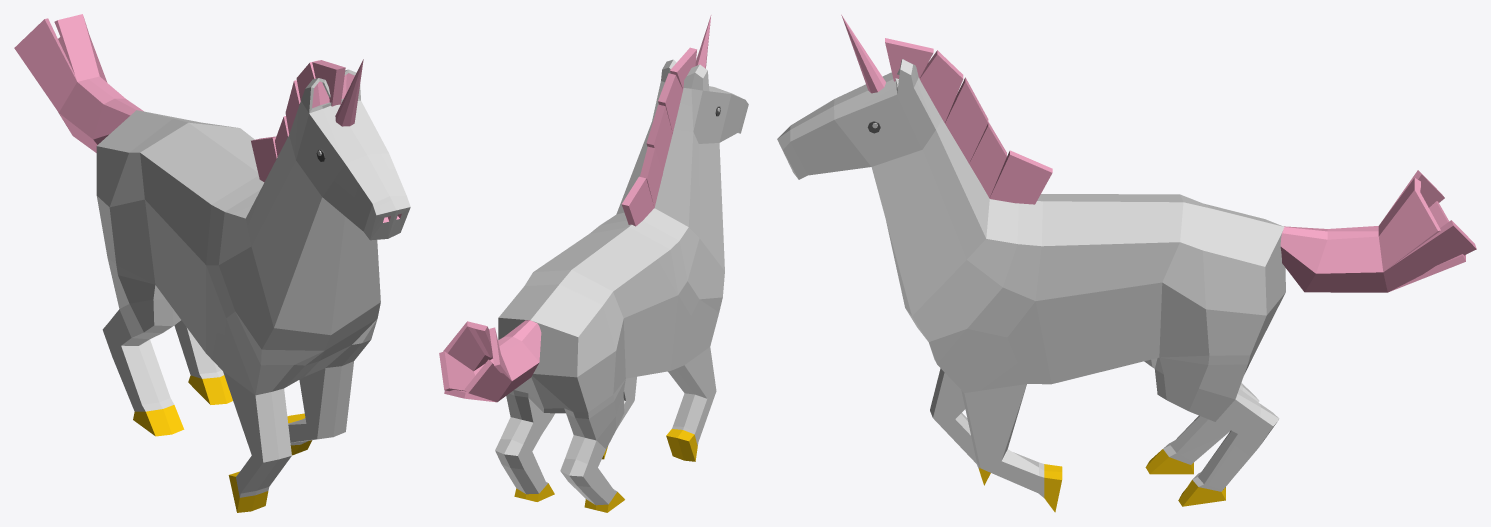
The model's file is unicorn.glb.
The picture shows the model from 3 angles, left to right: view 1: azimuth 30°, elevation 25°; view 2: azimuth 150°, elevation 25°; view 3: azimuth 270°, elevation 25°; orthographic projection. The views are drawn at different scales.
Visible parts, largest first — view 1: node-0; view 2: node-0; view 3: node-0.
Boxes of the visible parts, x1,y1,x2,y2 form: node-0: (14, 14, 410, 512); node-0: (439, 15, 748, 512); node-0: (777, 14, 1476, 512).
Bounding box in the file's own units: 6.94 × 24.43 × 31.9.
